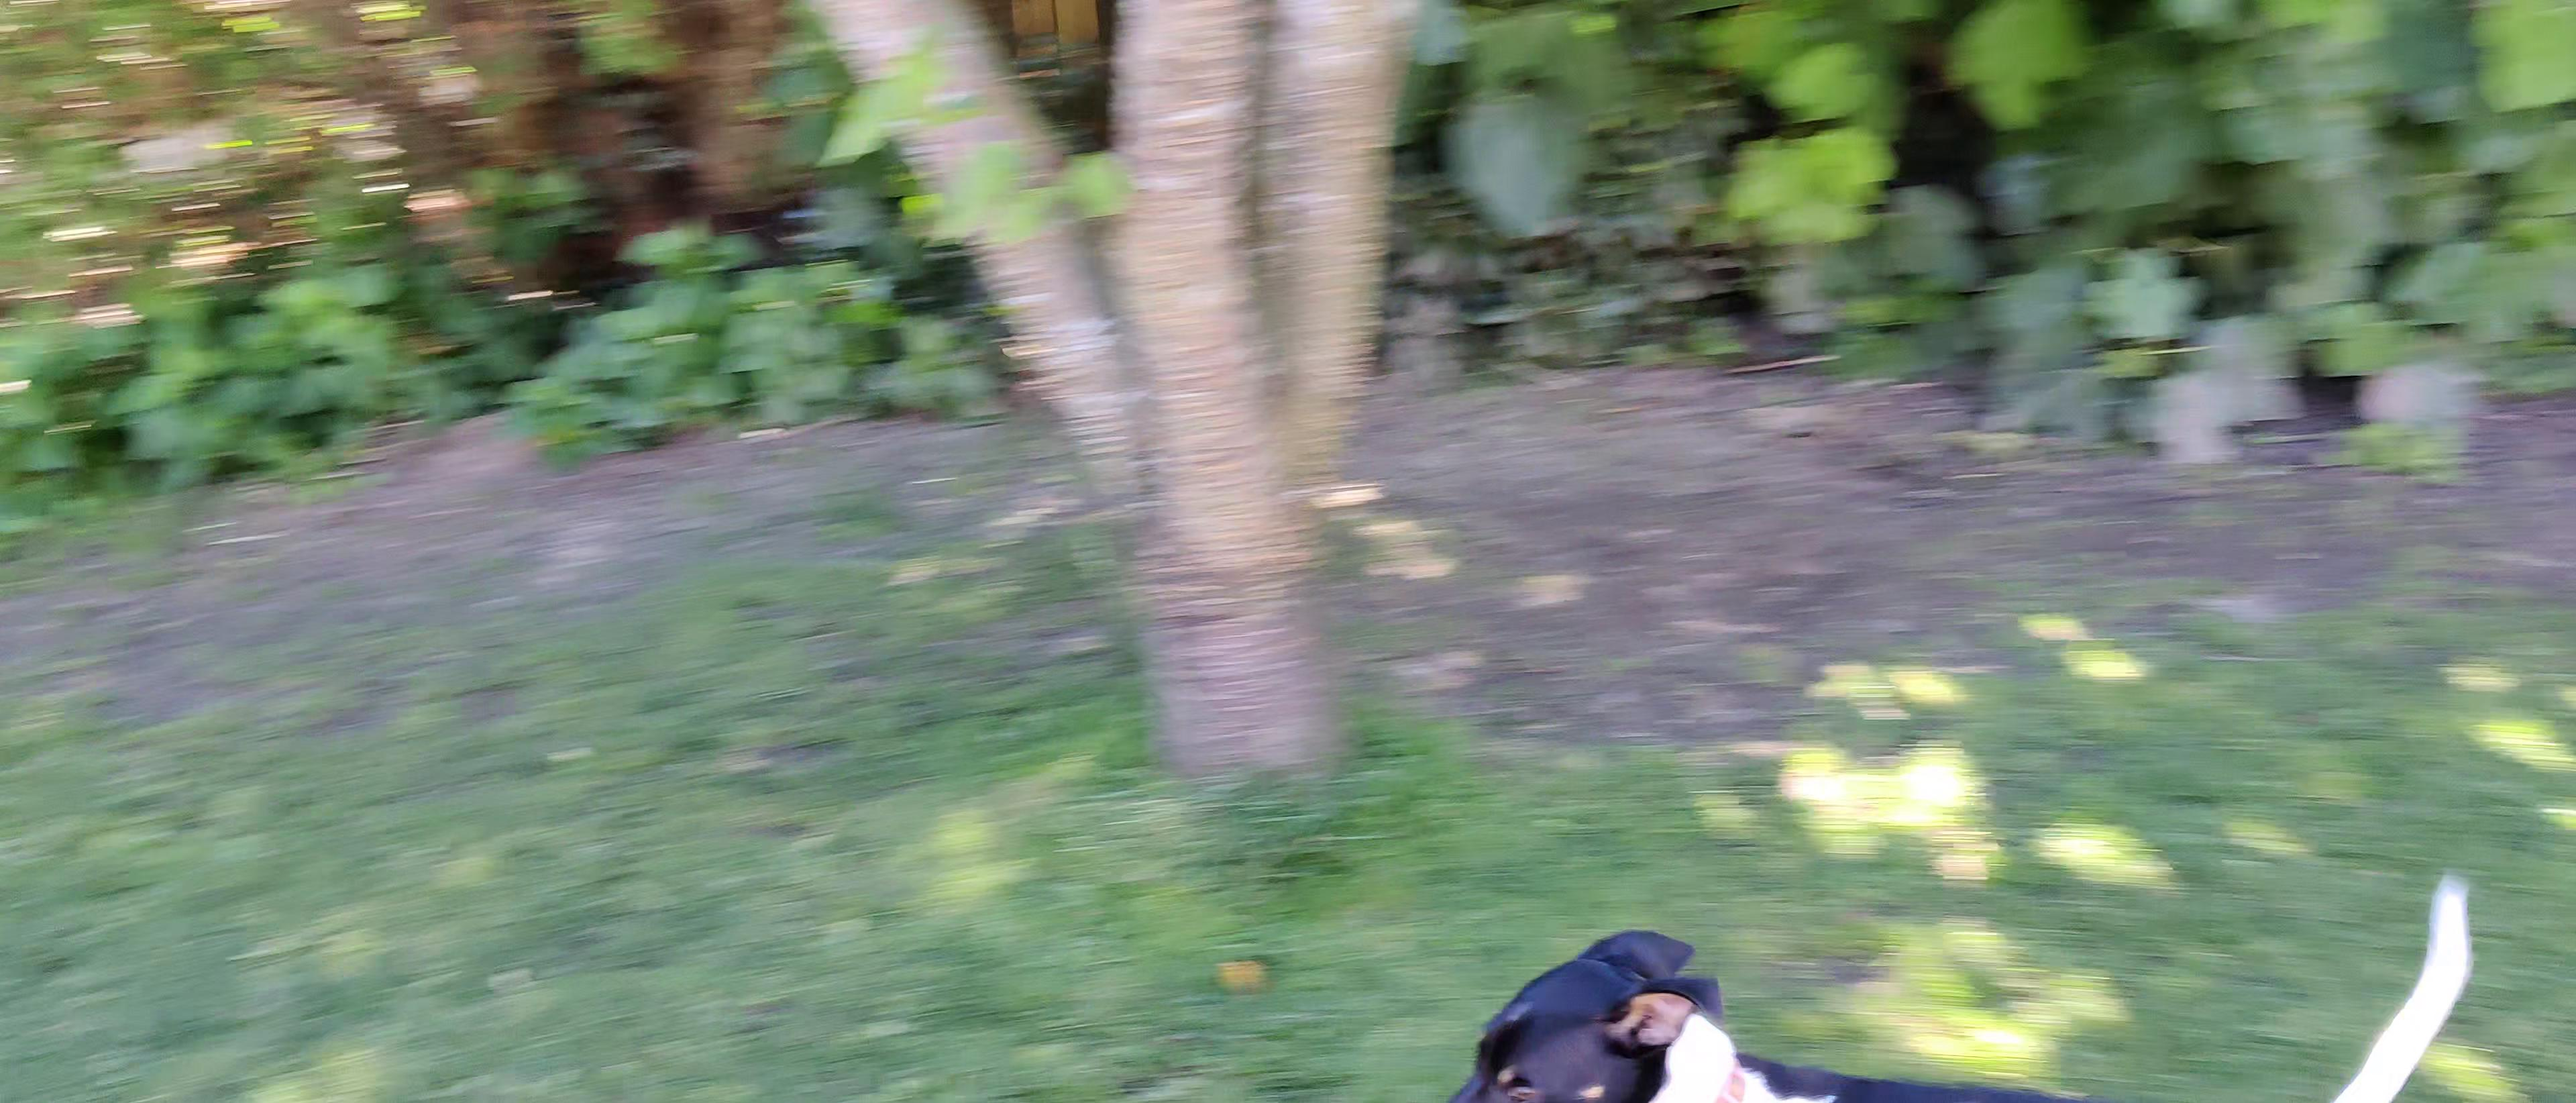Dog: (1410, 855, 2492, 1103)
